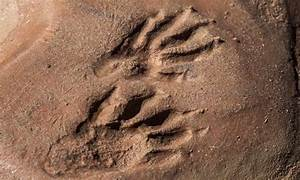beaver: (37, 87, 206, 173), (90, 6, 224, 85)
